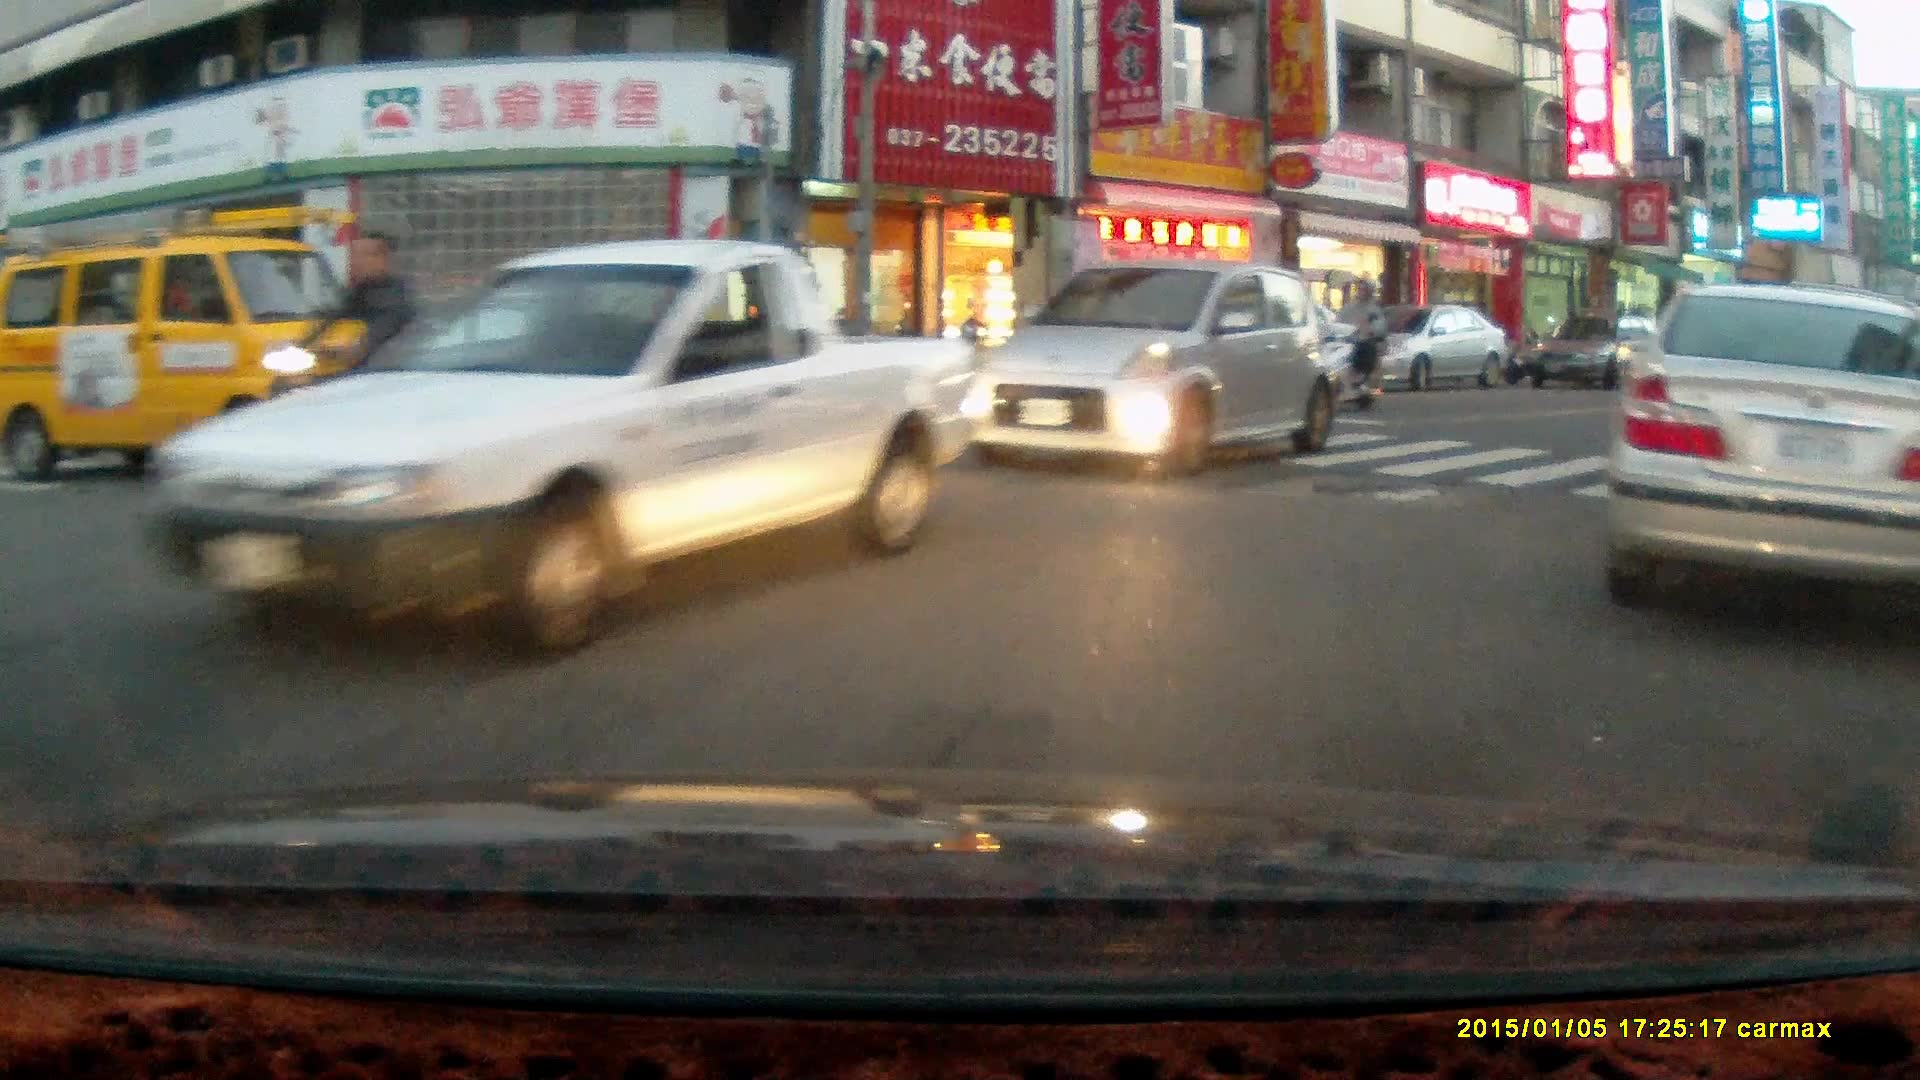rider: (255, 227, 481, 493), (1316, 269, 1387, 415)
vehicle: (103, 235, 981, 671), (1, 204, 419, 486), (1614, 280, 1910, 644), (957, 259, 1341, 479), (1358, 304, 1508, 389), (1521, 314, 1664, 389)
